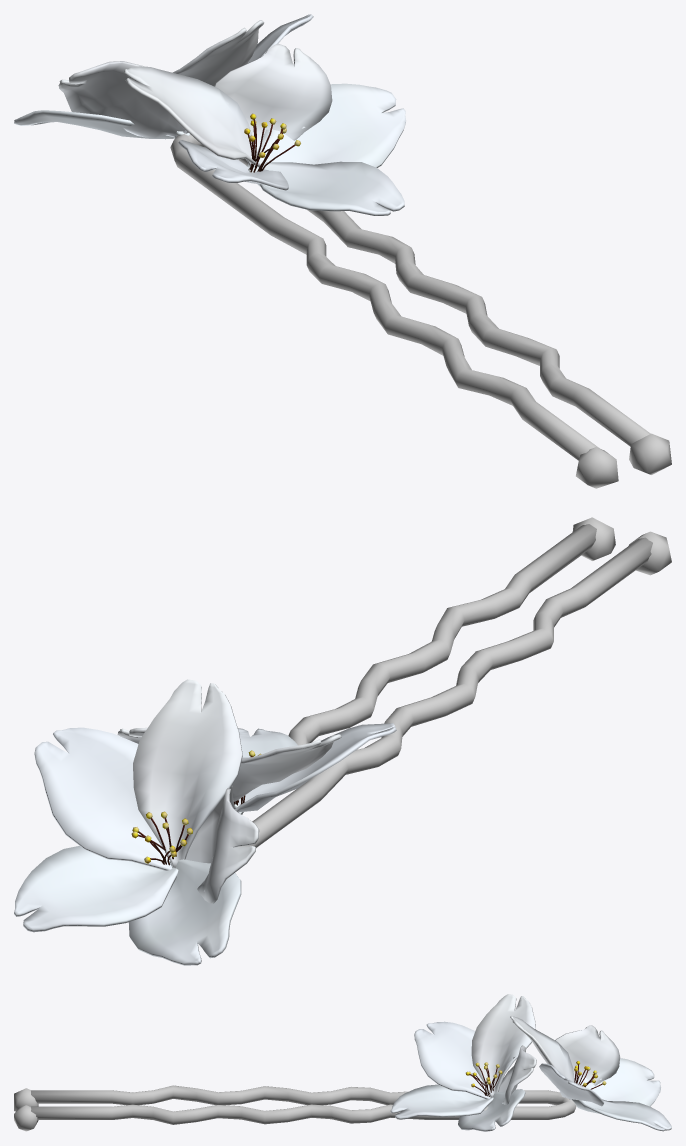
Rendered from hairpin.fbx.
3 renders of one model, top to bottom at view 1: azimuth 30°, elevation 25°; view 2: azimuth 150°, elevation 25°; view 3: azimuth 270°, elevation 25°, orthographic. The views are drawn at different scales.
Visible parts, largest first — view 1: hairpin flower, hairpin, hairpin flower.001, hairpin flower stamen; view 2: hairpin flower.001, hairpin, hairpin flower, hairpin flower stamen.001; view 3: hairpin, hairpin flower, hairpin flower.001, hairpin flower stamen, hairpin flower stamen.001.
Boxes of the visible parts, bbox=[...] form: hairpin flower: bbox=[123, 43, 406, 215]; hairpin: bbox=[170, 131, 671, 488]; hairpin flower.001: bbox=[14, 14, 313, 139]; hairpin flower stamen: bbox=[244, 113, 300, 172]; hairpin flower.001: bbox=[14, 679, 259, 965]; hairpin: bbox=[238, 517, 671, 847]; hairpin flower: bbox=[117, 723, 396, 814]; hairpin flower stamen.001: bbox=[131, 811, 192, 865]; hairpin: bbox=[14, 1085, 576, 1131]; hairpin flower: bbox=[390, 994, 536, 1131]; hairpin flower.001: bbox=[510, 1015, 671, 1131]; hairpin flower stamen: bbox=[465, 1062, 502, 1096]; hairpin flower stamen.001: bbox=[574, 1061, 606, 1089].
Size of the model in its own units: 0.1789 by 0.1103 by 0.6047.
